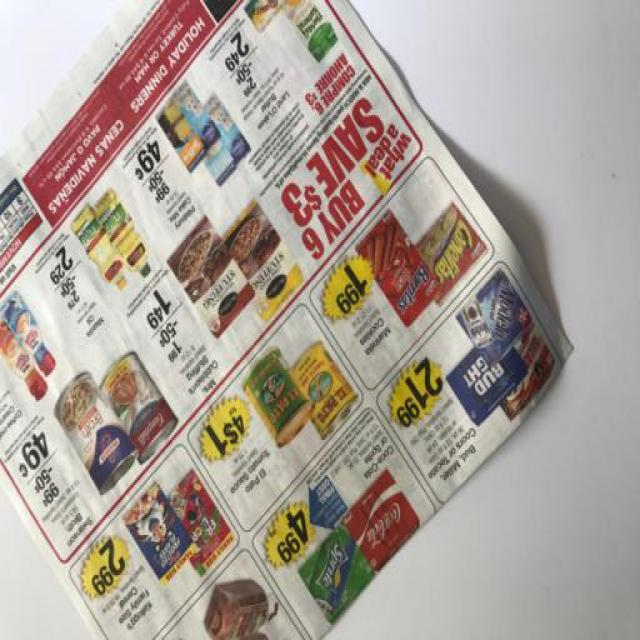paper: (1, 1, 593, 640)
